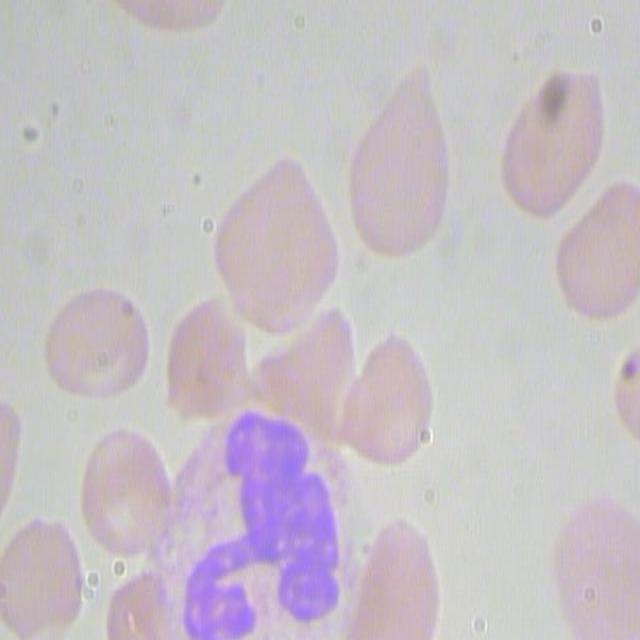RBC: (211, 166, 339, 342), (344, 96, 456, 258), (497, 72, 607, 222), (243, 300, 355, 429), (39, 284, 155, 406), (335, 335, 437, 472), (78, 424, 175, 562), (354, 513, 448, 638), (567, 481, 640, 640), (162, 296, 252, 424), (555, 191, 640, 324), (2, 516, 92, 638), (0, 381, 39, 522), (608, 342, 640, 502), (103, 0, 230, 35)
WBC: (163, 417, 359, 640)
